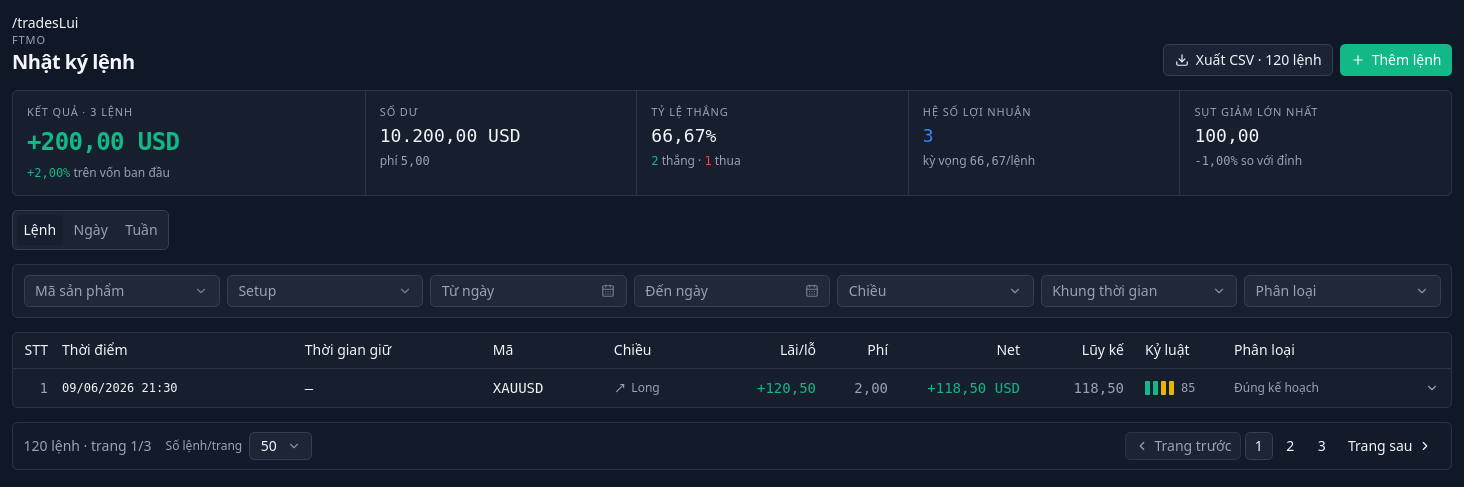
phân trang ghi số trang lên URL
Expected: the row "XAUUSD" is shown, [13,368,1451,407]
What coordinates should you click on to do the following:
click the link "Trang sau"
I would click on:
 (1390, 445)
Its box is [1348,436,1432,455].
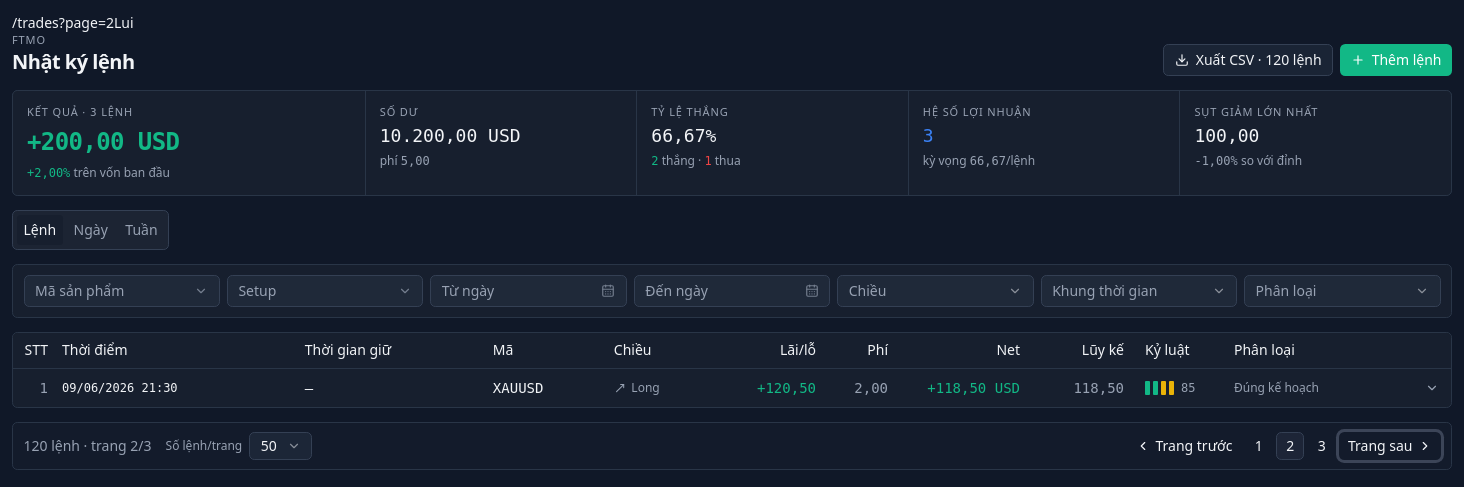
Expected: the text with test id "url" shows "page=2", [12,13,114,32]
